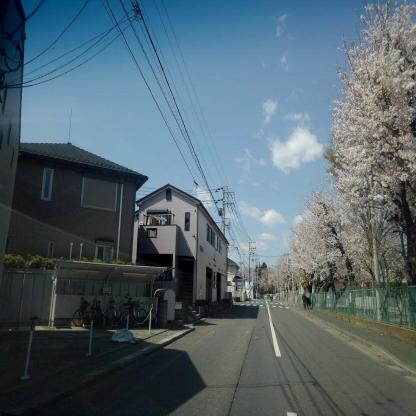Someiyoshino: (318, 1, 415, 226), (285, 181, 380, 287), (240, 252, 296, 294)
